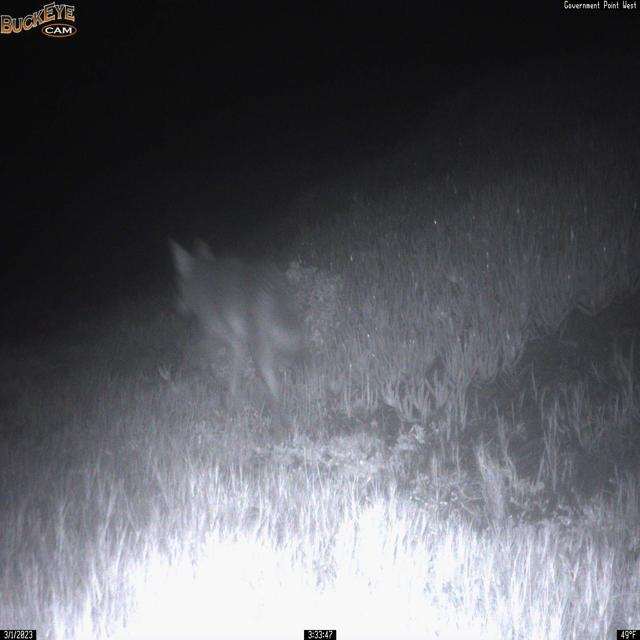coyote: (167, 233, 308, 420)
